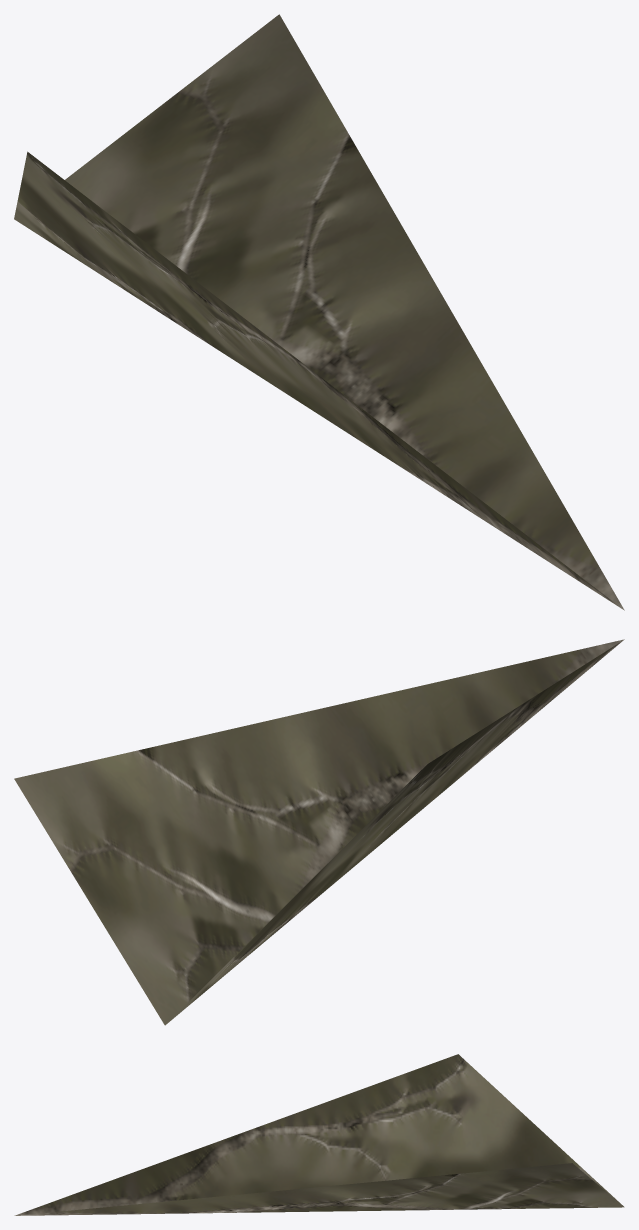
The model's file is TI_Bush_02_Part_03.fbx.
3 views of the same model, one above another, from view 1: azimuth 30°, elevation 25°; view 2: azimuth 150°, elevation 25°; view 3: azimuth 270°, elevation 25° (orthographic). The views are drawn at different scales.
Visible parts, largest first — view 1: TI_Bush_02_Part_03; view 2: TI_Bush_02_Part_03; view 3: TI_Bush_02_Part_03.
Boxes of the visible parts, x1=… form: TI_Bush_02_Part_03: x1=14, y1=14, x2=624, y2=610; TI_Bush_02_Part_03: x1=14, y1=639, x2=624, y2=1025; TI_Bush_02_Part_03: x1=14, y1=1054, x2=624, y2=1215.
Size of the model in its own units: 0.3556 by 0.2038 by 0.9704.
